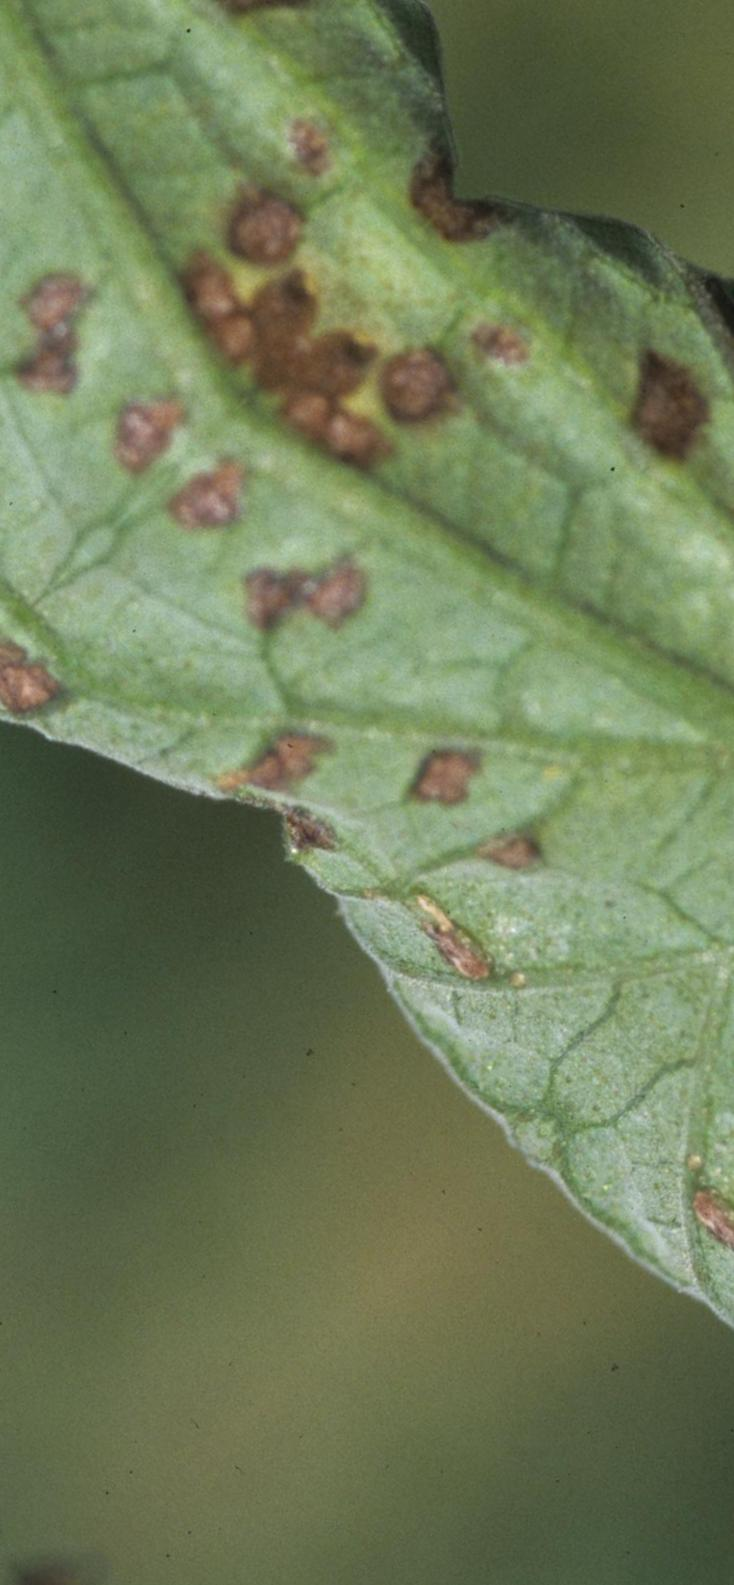Tomato leaf bacterial spot: (0, 0, 734, 1290)
